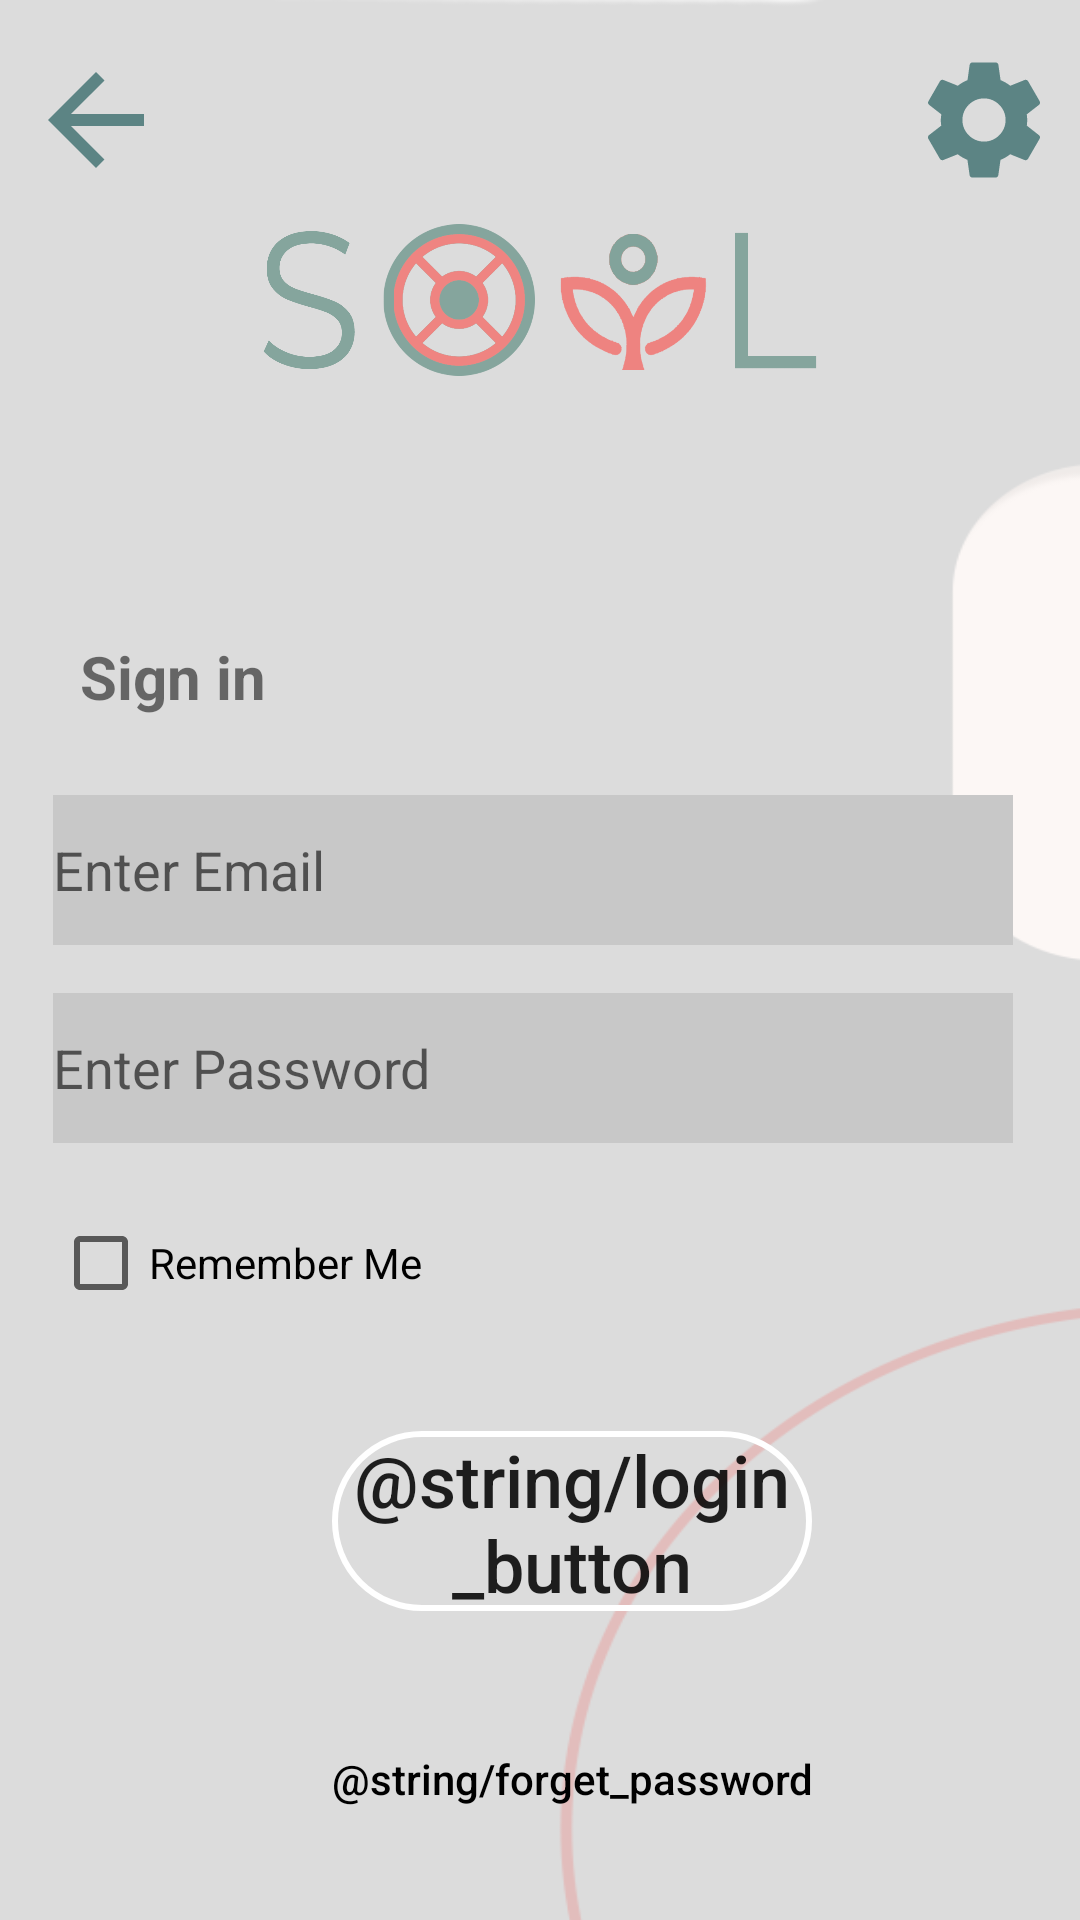

Icons on this 1080w x 1920h Android screen, each with the point to tap as point (x, y):
Back Button: point (96, 120)
Settings: point (984, 120)
